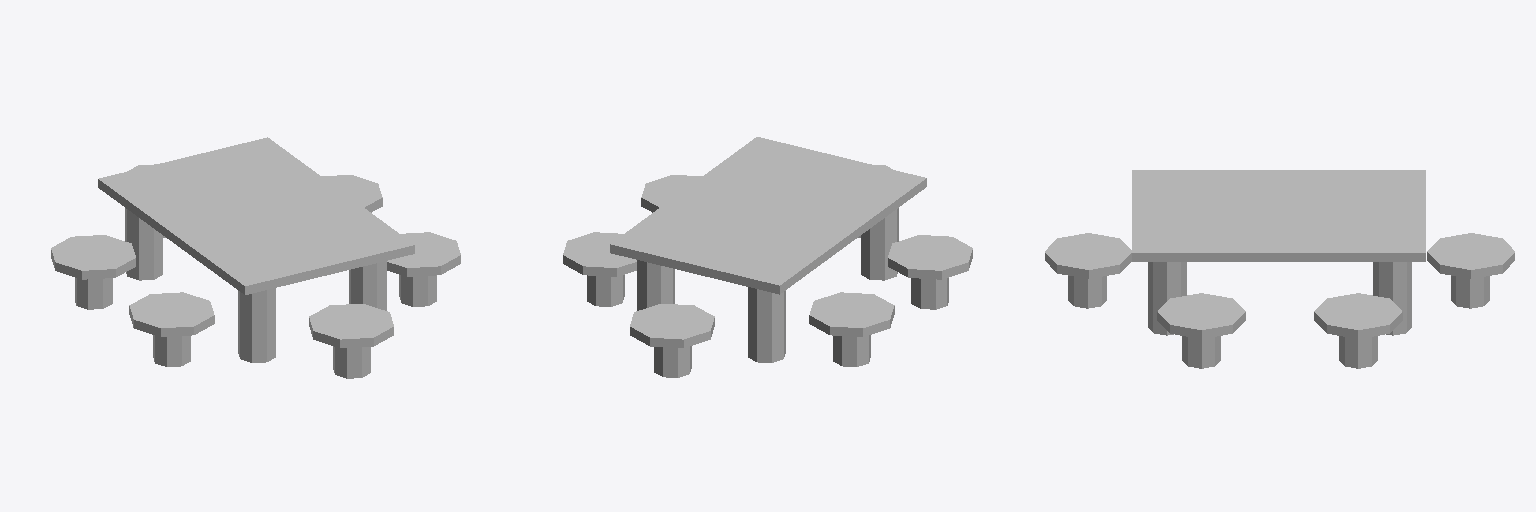
File: cafeteriatable.obj
3 views of the same model, side by side, from view 1: azimuth 30°, elevation 25°; view 2: azimuth 150°, elevation 25°; view 3: azimuth 270°, elevation 25° (orthographic).
Visible parts, largest first — view 1: Cube; view 2: Cube; view 3: Cube.
Boxes of the visible parts, <box> form: Cube: <box>51,137,460,378</box>; Cube: <box>563,137,972,377</box>; Cube: <box>1045,170,1514,368</box>.
Size of the model in its own units: 3.8 by 1 by 4.8.